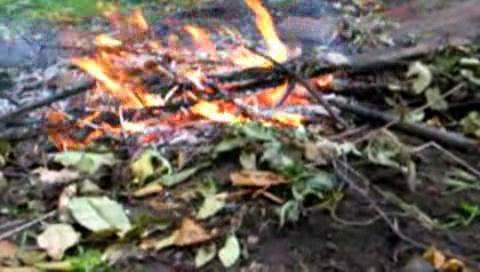fire: (64, 5, 343, 130)
